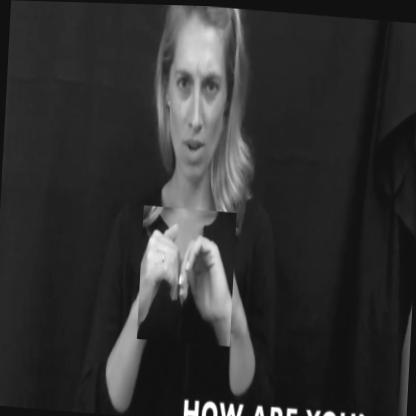HowAreYou: (136, 204, 236, 345)
